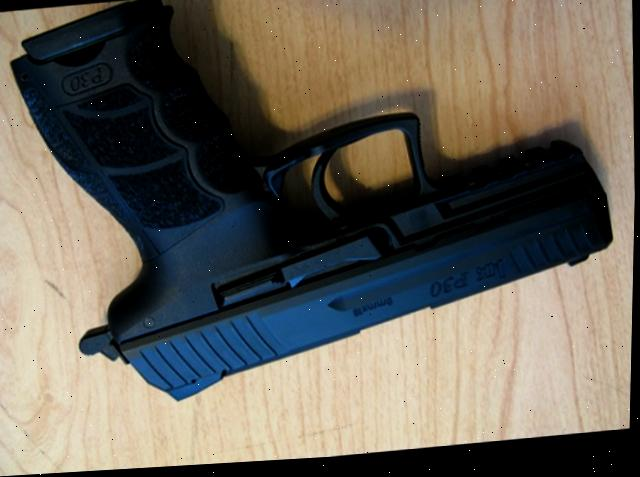pistol: (0, 0, 628, 416)
